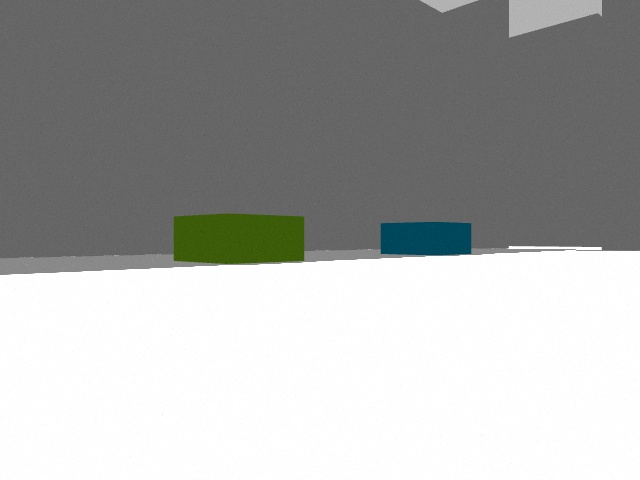blue_drop_zone: (381, 222, 471, 255)
green_drop_zone: (174, 213, 304, 264)
